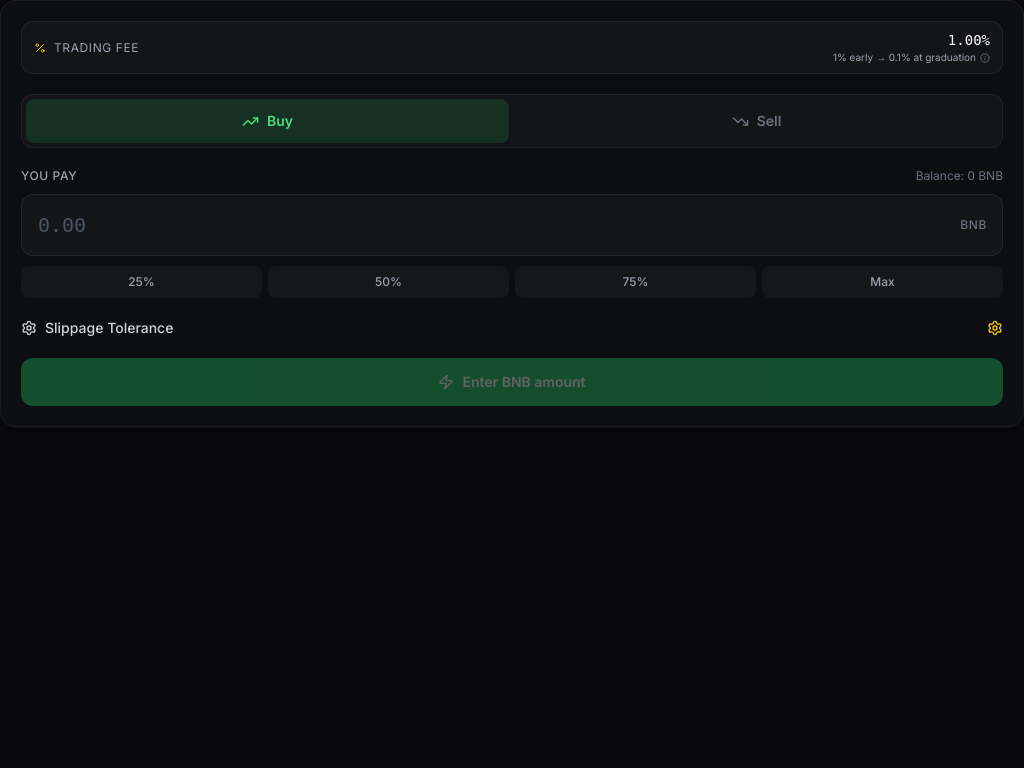
TradingInterface › Quick Amount Presets › should use token balance for presets in sell mode
Click the button "Sell".
click(756, 121)  # box [515,99,998,143]
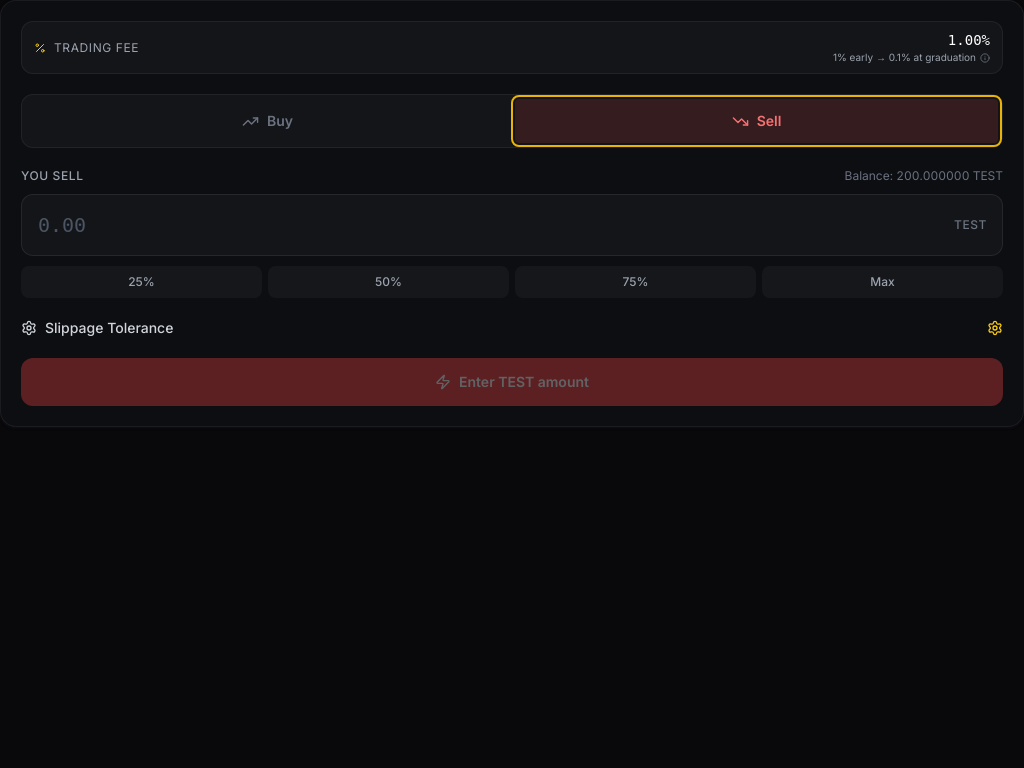
Click the button "50%".
click(388, 282)  # box [268,266,509,298]
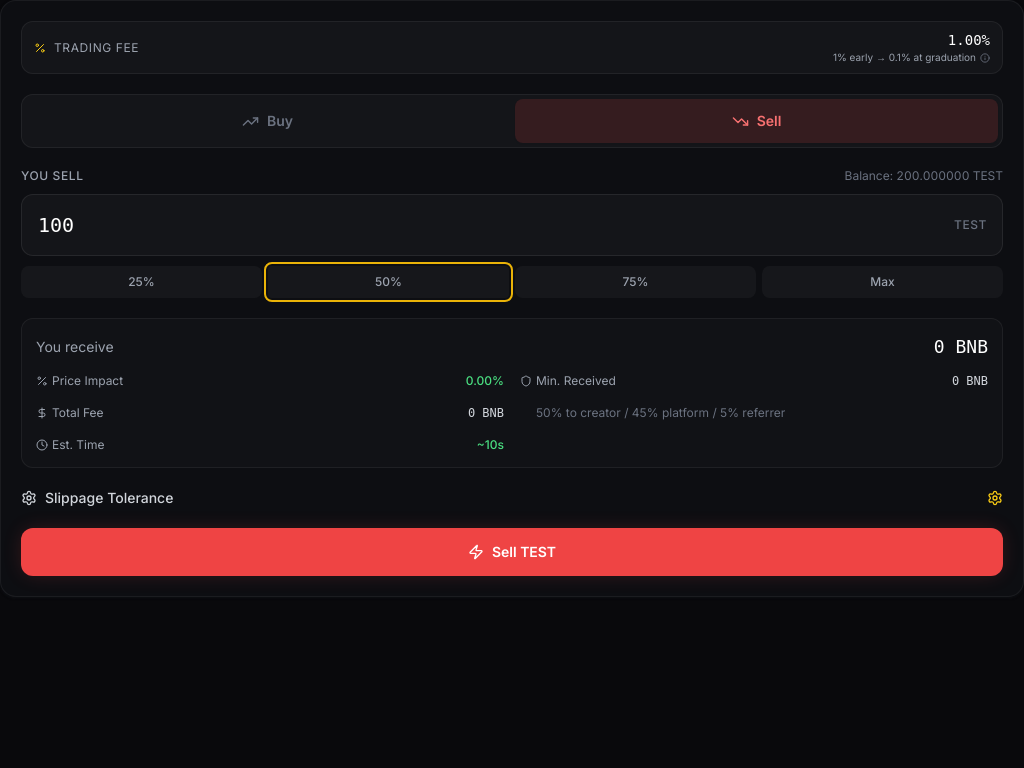
Expected: the number field with placeholder "0.00" holds "100", [21,194,1003,256]
